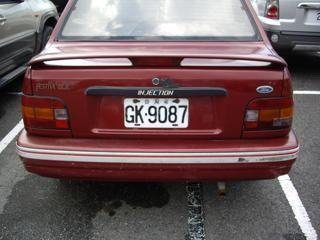plate: (121, 97, 190, 130)
